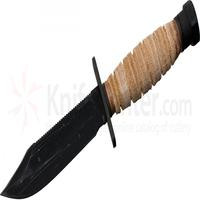knife: (1, 2, 196, 199)
